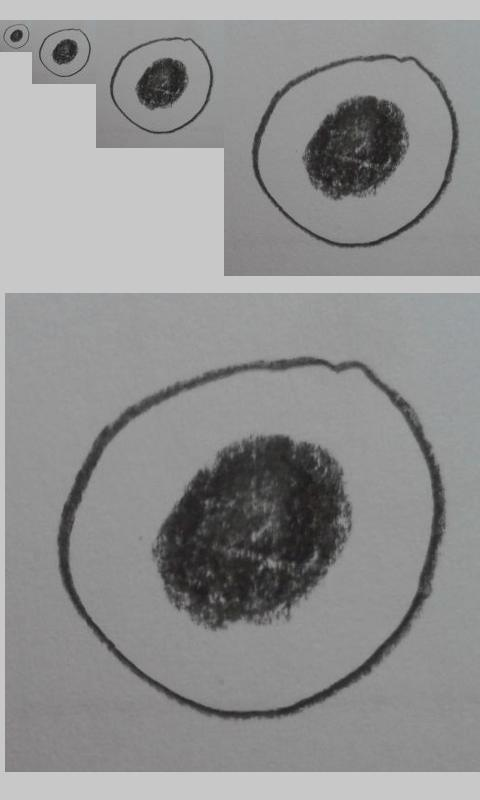radio_button: (55, 356, 445, 722), (252, 52, 459, 250), (110, 37, 215, 135), (38, 28, 92, 78), (2, 23, 30, 49)
